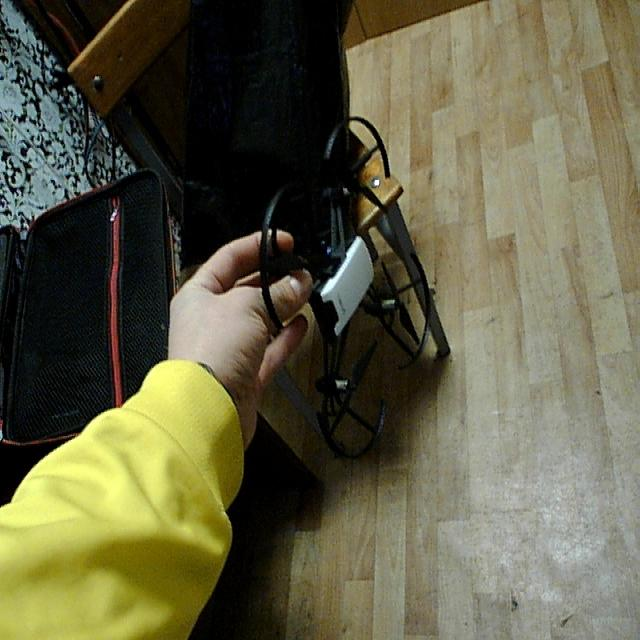drone: (245, 109, 438, 479)
